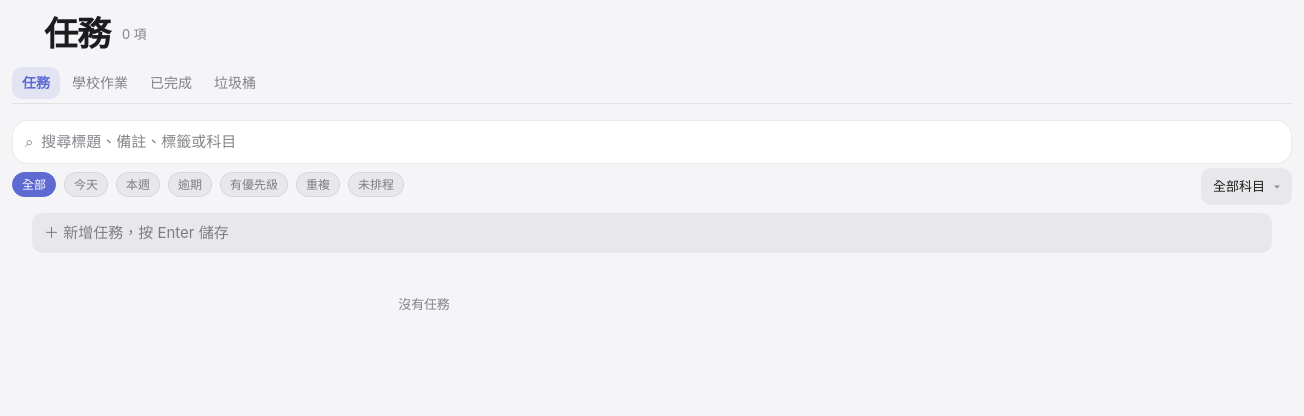
任務快速新增 › API 失敗時保留內容並顯示錯誤，可再次編輯重試
The width and height of the screenshot is (1304, 416).
Type "國文作文" into the field with placeholder "＋ 新增任務，按 Enter 儲存" at [652, 233], box [32,214,1272,253]
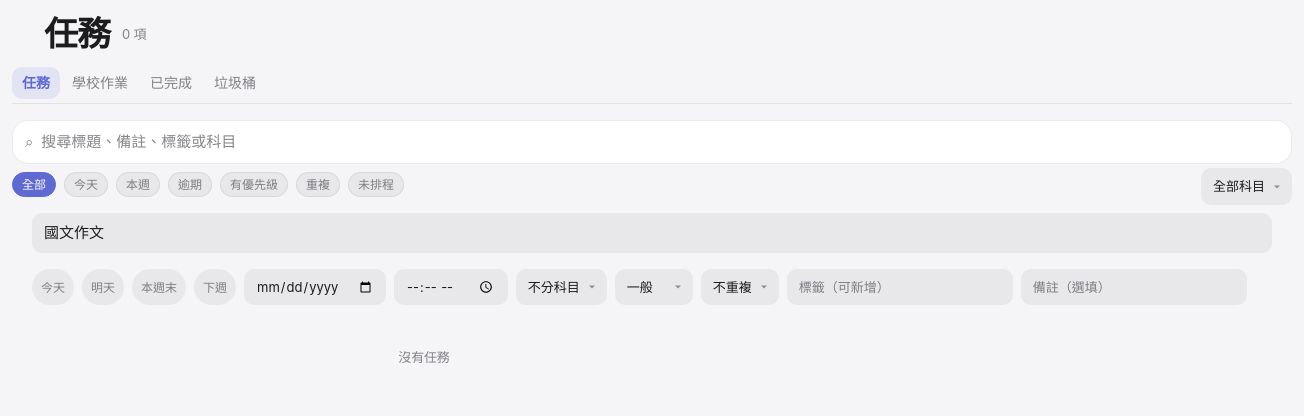
Submit the form with placeholder "＋ 新增任務，按 Enter 儲存", box [32,214,1272,306]
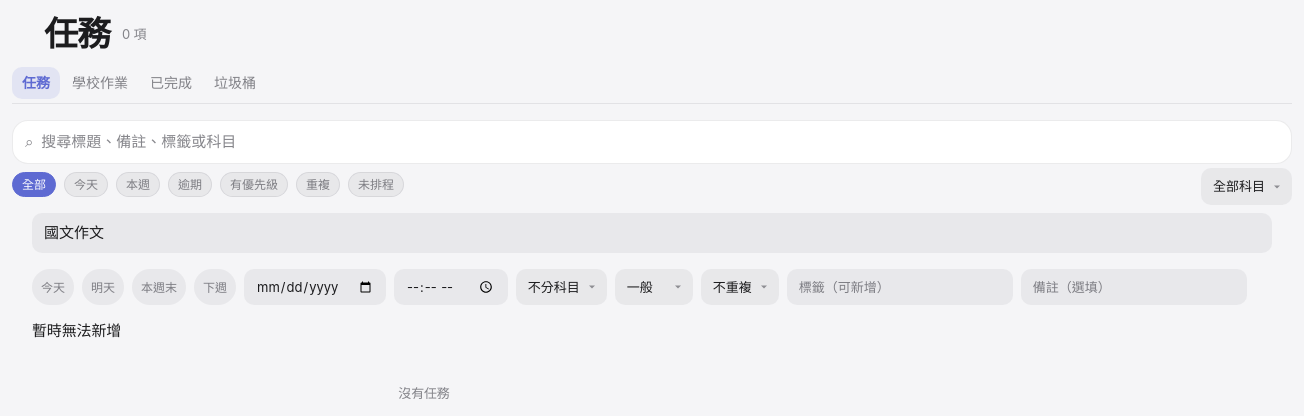
Now the message reads "暫時無法新增", box [32,321,121,340]
